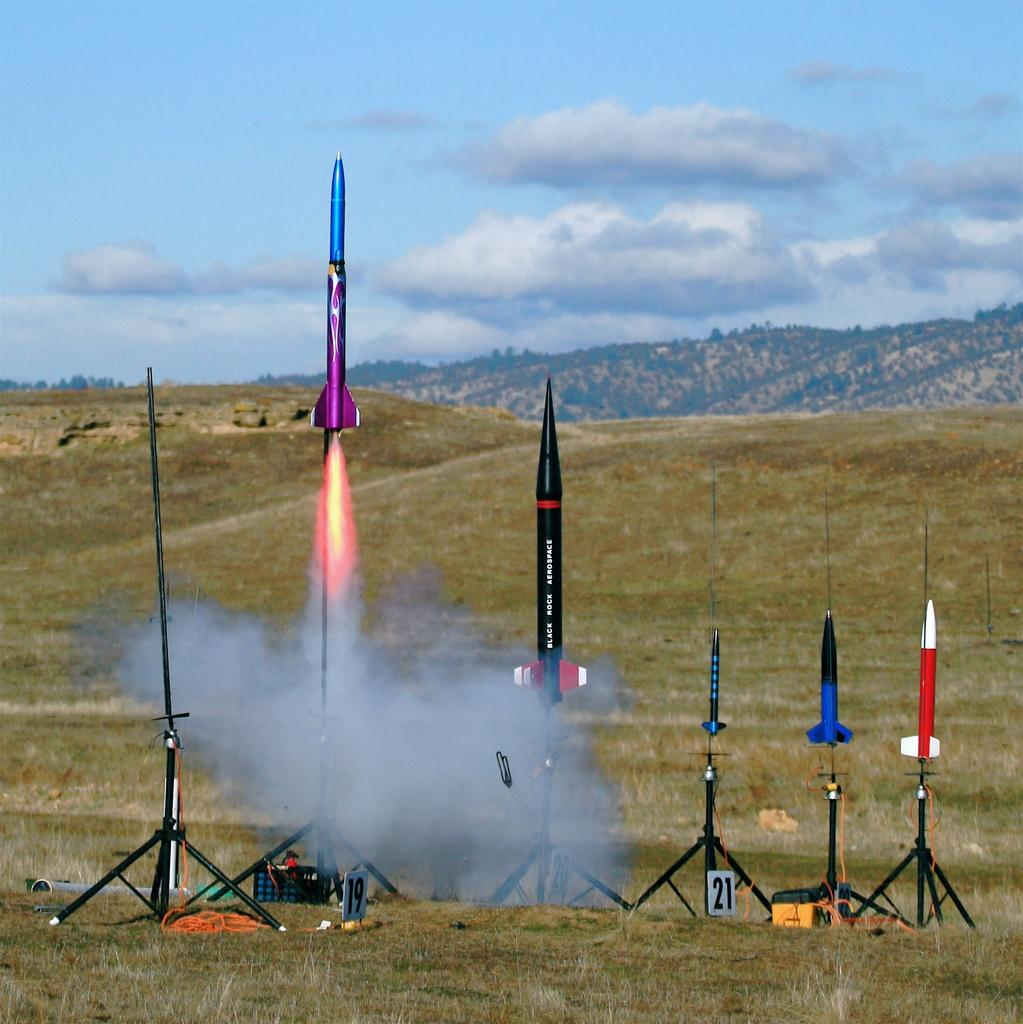Missile: (512, 376, 596, 711), (312, 147, 366, 440), (808, 609, 860, 751), (899, 595, 941, 758), (698, 620, 731, 740)
